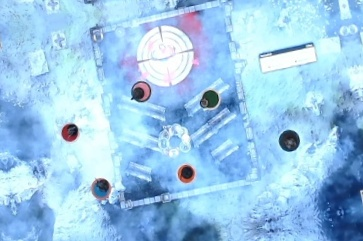brown_turquoise: (276, 128, 303, 155)
green: (195, 86, 222, 113)
light_blue_orange: (86, 174, 112, 201)
orange: (173, 161, 200, 187)
pink_green: (127, 79, 154, 106)
red: (56, 123, 82, 149)
